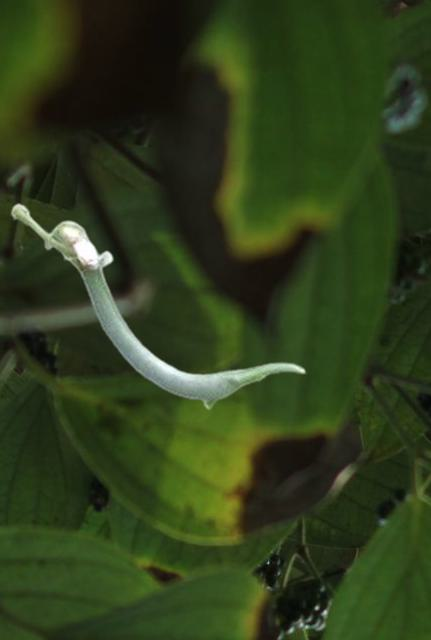french_bean: (10, 202, 305, 409)
